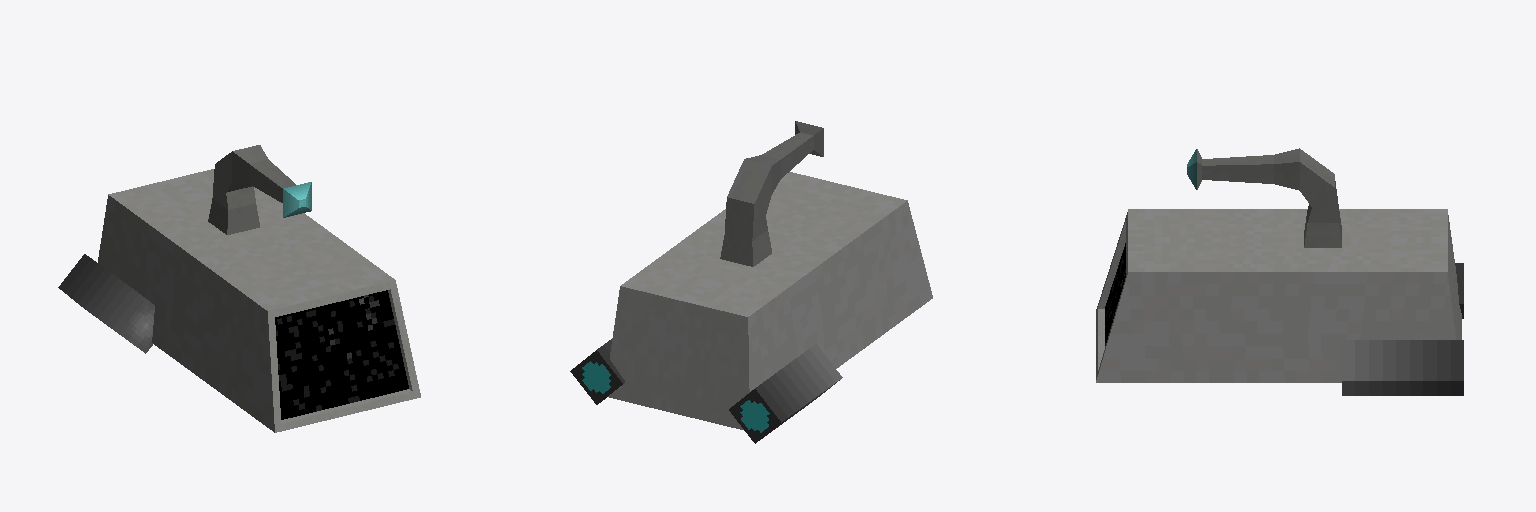
The picture shows the model from 3 angles: view 1: azimuth 30°, elevation 25°; view 2: azimuth 150°, elevation 25°; view 3: azimuth 270°, elevation 25°; orthographic projection.
Visible parts, largest first — view 1: Cube; view 2: Cube; view 3: Cube.
Boxes of the visible parts, x1=… form: Cube: x1=58, y1=145, x2=420, y2=432; Cube: x1=570, y1=121, x2=932, y2=443; Cube: x1=1096, y1=148, x2=1463, y2=395.
Size of the model in its own units: 3.3 by 3.02 by 4.99.
Materials: 1 (1 with a texture image).